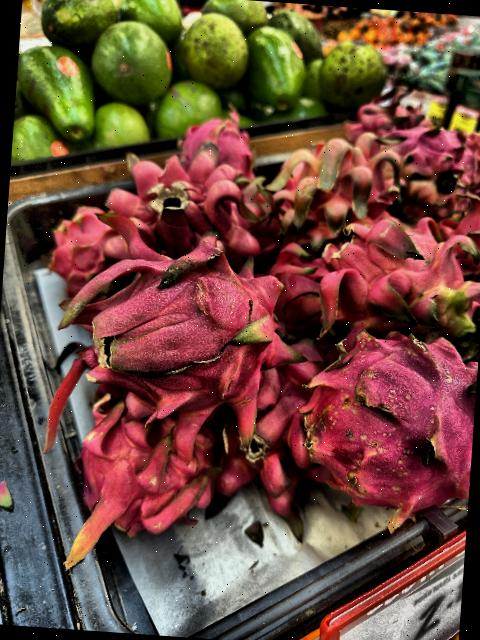buah-naga-belum-matang: (314, 202, 480, 343)
buah-naga-matang: (60, 226, 302, 437), (283, 316, 480, 518), (49, 395, 217, 559), (97, 151, 273, 261), (213, 364, 320, 514), (274, 136, 396, 241), (392, 135, 480, 228), (41, 200, 109, 290), (176, 106, 262, 174), (270, 238, 331, 328)
